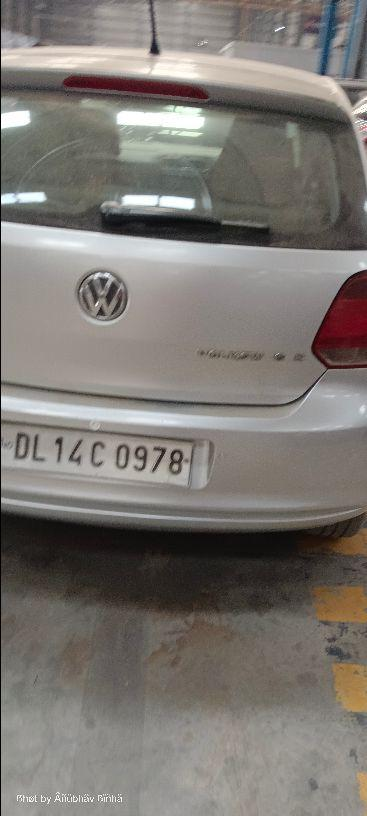license_plate: (1, 420, 195, 489)
